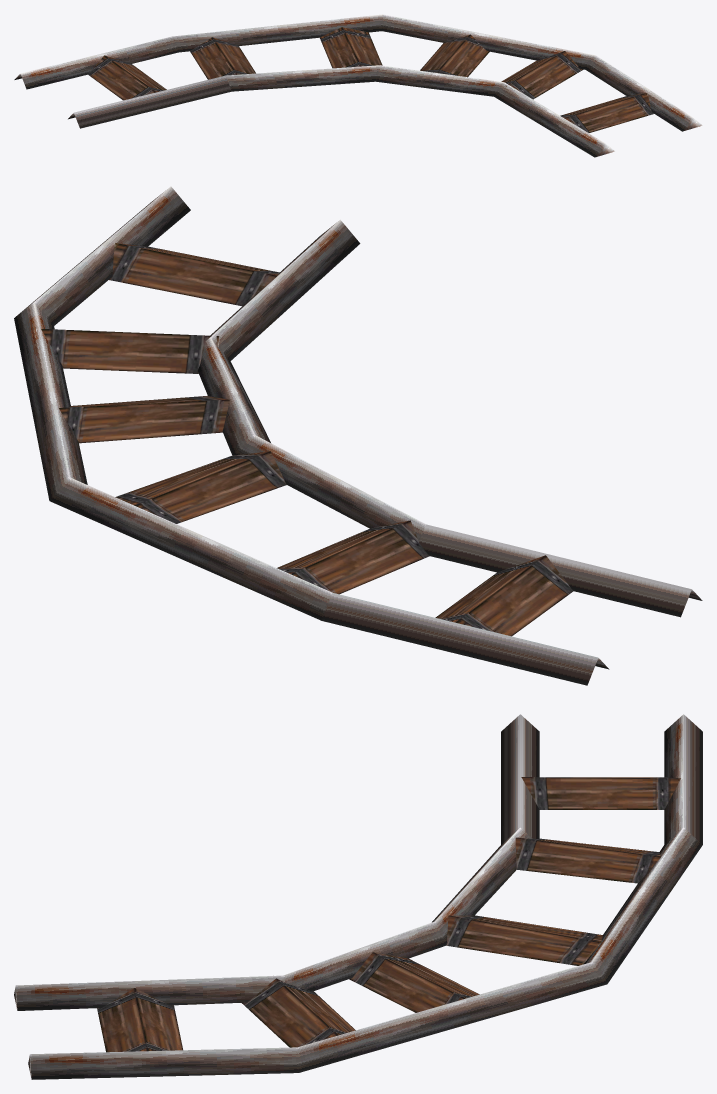
The model's file is goldminetrackcurve.obj.
3 views of the same model, one above another, from view 1: azimuth 30°, elevation 25°; view 2: azimuth 150°, elevation 25°; view 3: azimuth 270°, elevation 25° (orthographic). The views are drawn at different scales.
Parts seen in each view (by area): view 1: Geoset1, Geoset0; view 2: Geoset1, Geoset0; view 3: Geoset1, Geoset0.
Part boxes in pixels (x1,y1,x2,y2): Geoset1: (14,14,702,157); Geoset0: (88,27,653,132); Geoset1: (14,186,702,685); Geoset0: (36,242,573,636); Geoset1: (14,714,702,1079); Geoset0: (97,777,680,1052).
Size of the model in its own units: 5.78 by 0.1481 by 4.81.
2 materials, 2 textured.
